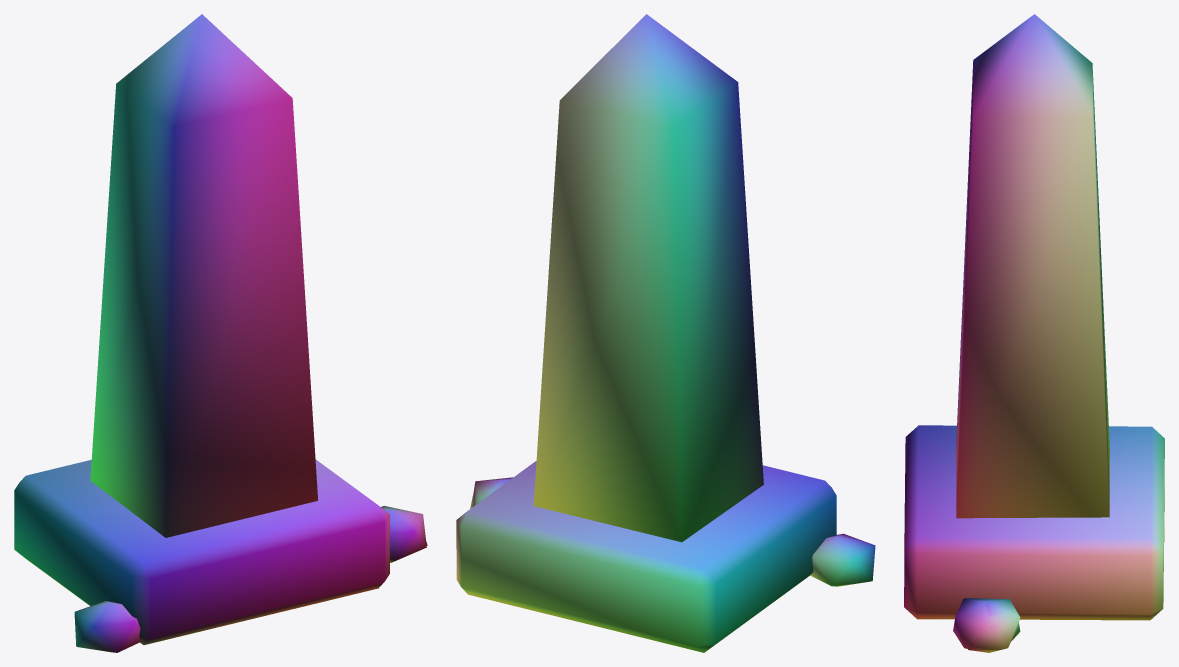
File: SM_Prop_Event_RunePillar.fbx
3 renders of one model, left to right at view 1: azimuth 30°, elevation 25°; view 2: azimuth 150°, elevation 25°; view 3: azimuth 270°, elevation 25°, orthographic. The views are drawn at different scales.
Visible parts, largest first — view 1: SM_Prop_Event_RunePillar; view 2: SM_Prop_Event_RunePillar; view 3: SM_Prop_Event_RunePillar.
Boxes of the visible parts, box(x1,y1,x2,y2) form: SM_Prop_Event_RunePillar: box(14, 14, 427, 652); SM_Prop_Event_RunePillar: box(456, 14, 875, 652); SM_Prop_Event_RunePillar: box(904, 14, 1164, 652).
Bounding box in the file's own units: 1.04 × 1.53 × 0.6473.
